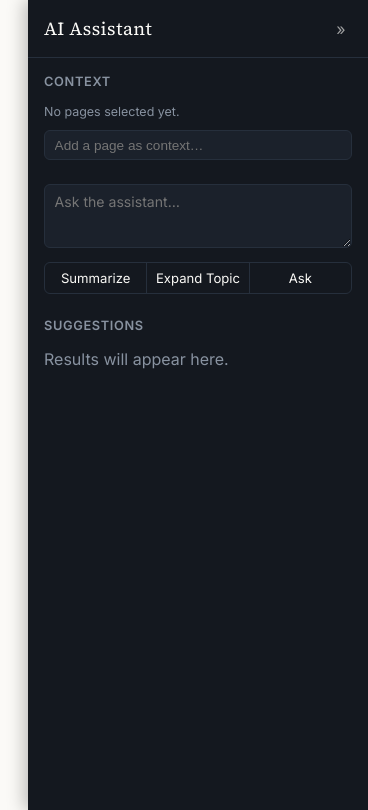
it: AiAssistantPanel › adding a page via the picker adds it to context and removing it takes it back out
Expected: the heading "Context" is shown, 44,74 -> 111,89
In the field with placeholder "Add a page as context…": (198, 145) 44,130 -> 352,160, type "Arag"
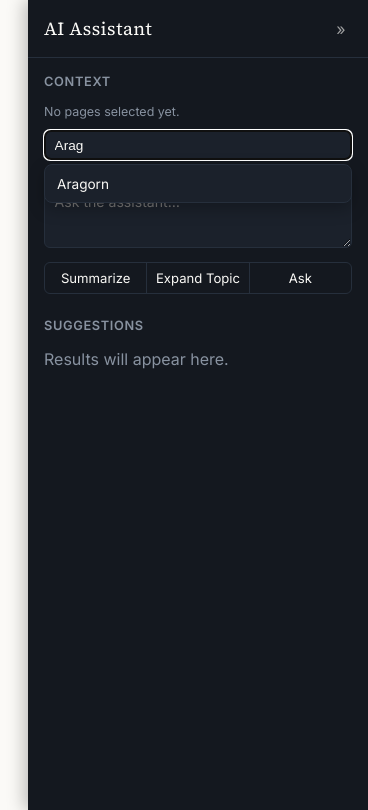
Now the list item "Aragorn" is shown
Click the list item "Aragorn": (83, 184) 57,176 -> 109,192
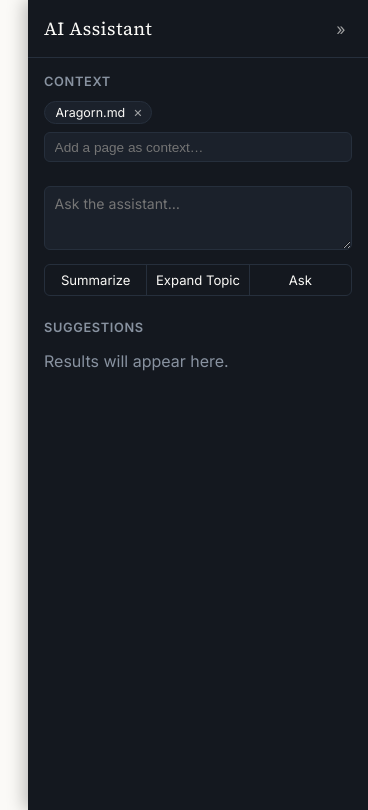
Now the text "Aragorn.md" is shown, box 55,105 -> 125,120
Click the button "✕": (138, 113) 130,106 -> 146,120
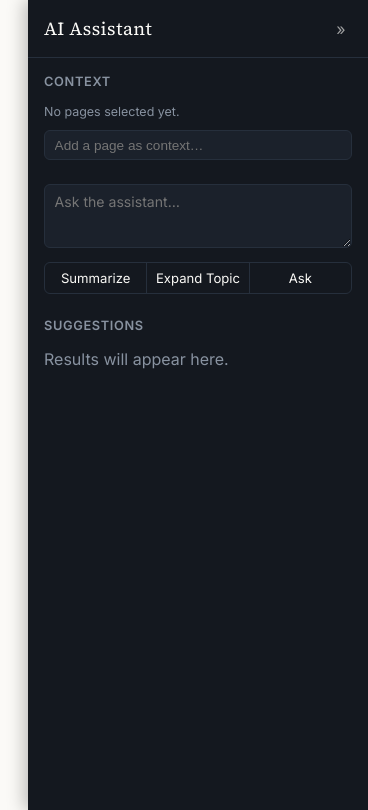
Now the text "Aragorn.md" is gone
